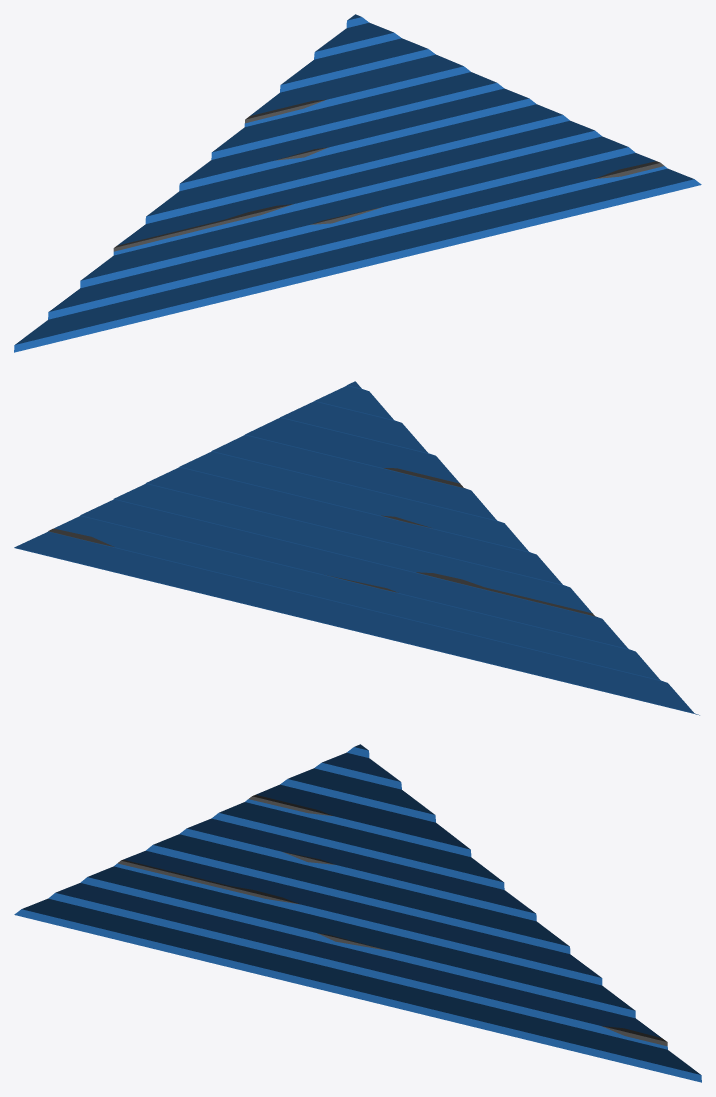
The model's file is builder_37.FBX.
3 renders of one model, top to bottom at view 1: azimuth 30°, elevation 25°; view 2: azimuth 150°, elevation 25°; view 3: azimuth 330°, elevation 25°, orthographic.
Visible parts, largest first — view 1: builder_37; view 2: builder_37; view 3: builder_37.
Part boxes in pixels (<box>): builder_37: <box>14,14,701,352</box>; builder_37: <box>14,381,699,715</box>; builder_37: <box>14,744,701,1082</box>.
Size of the model in its own units: 240 by 84.18 by 2.1.
